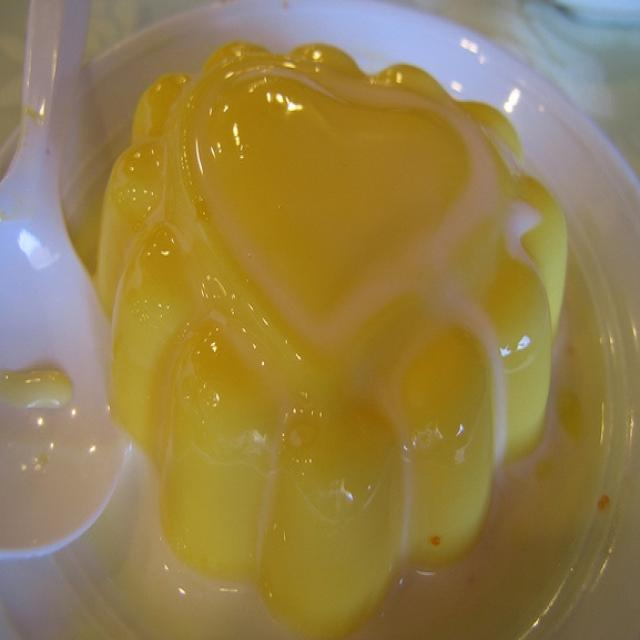蛋糕甜品: (20, 10, 621, 615)
